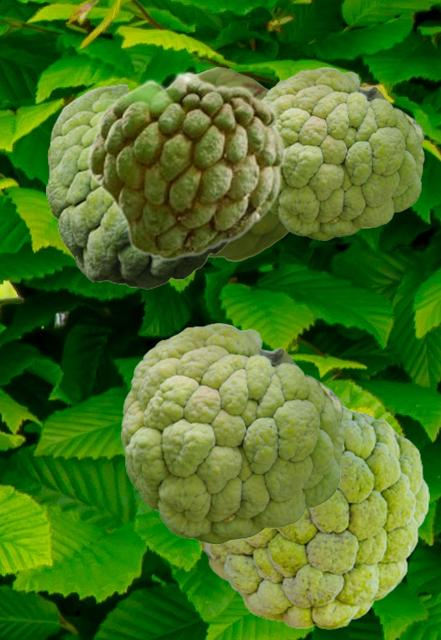atis: (197, 403, 428, 628), (121, 323, 343, 543), (85, 70, 285, 260), (46, 83, 230, 288), (263, 67, 423, 239), (196, 67, 290, 260)
